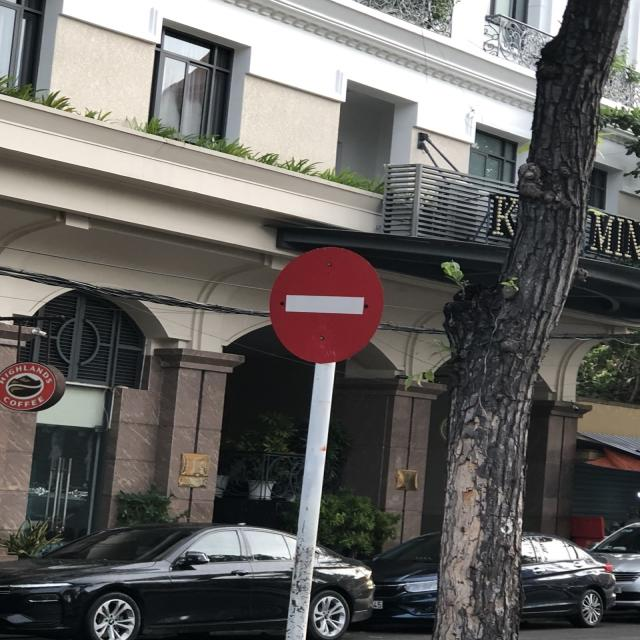Bien bao cam di nguoc chieu: (261, 242, 392, 367)
